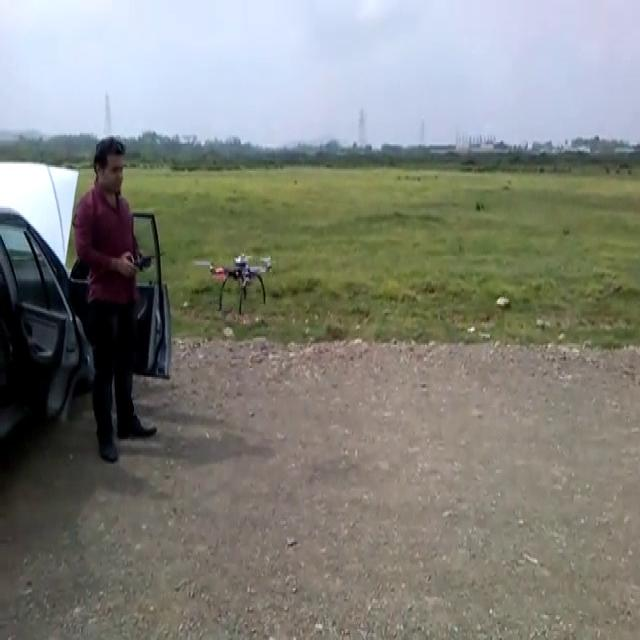drone: (194, 245, 278, 313)
